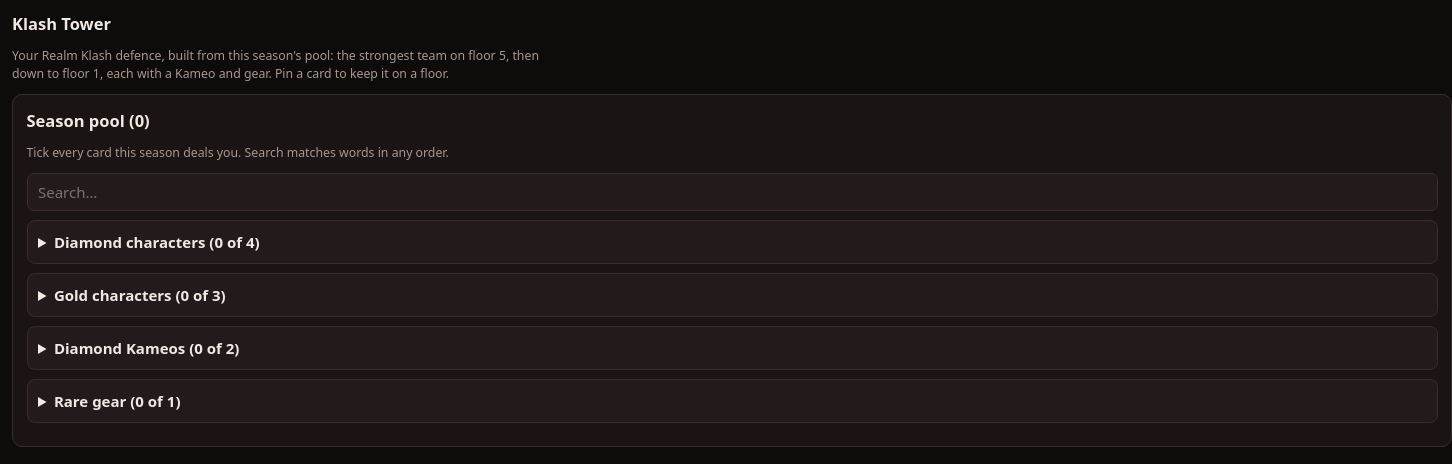
Test: Klash Tower: the pool and the floors › searches the pool by words in any order
Type "ONE  diamond" into the field named "Search the pool" at (732, 192), box [26, 174, 1438, 212]
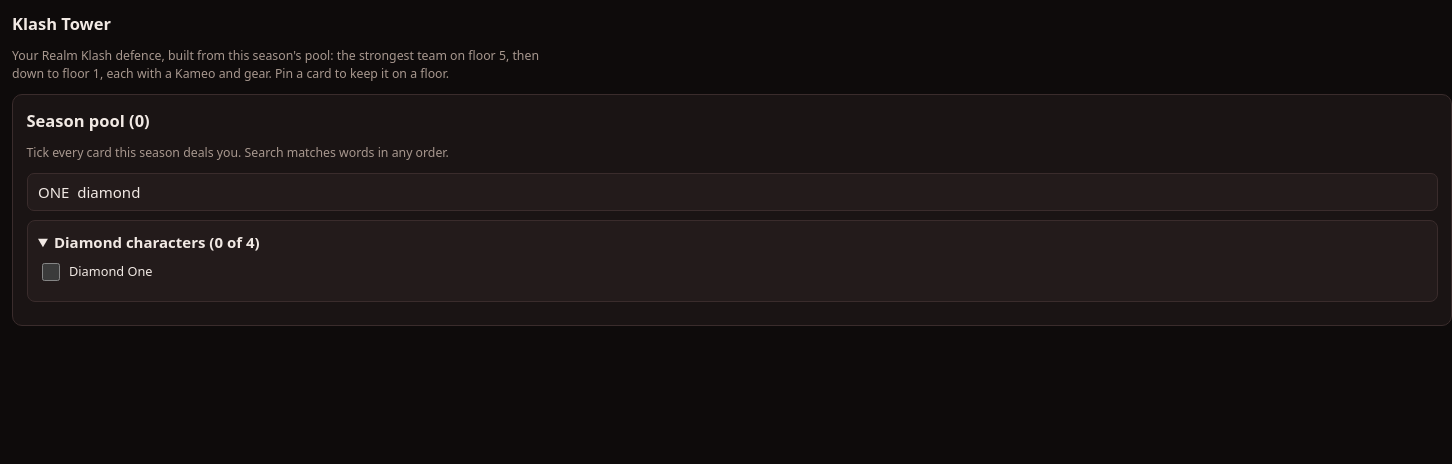
expect the checkbox labelled "Diamond One" is shown: met, box [42, 263, 60, 281]
